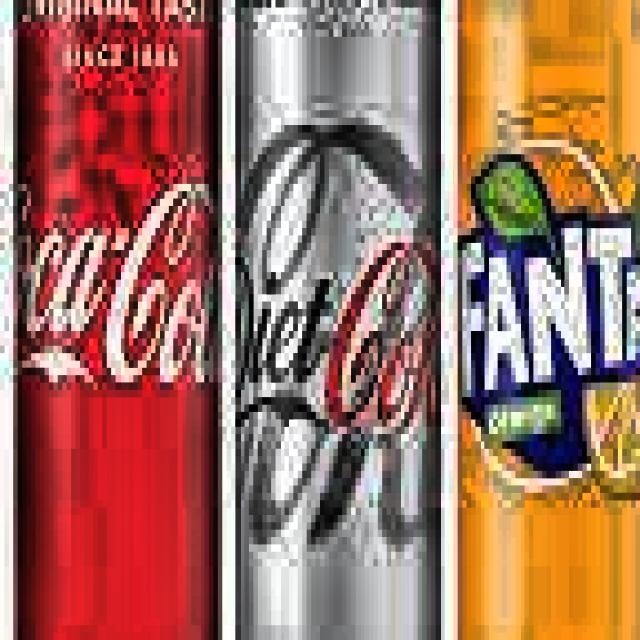metal: (9, 0, 227, 640), (231, 0, 445, 640), (449, 0, 640, 640)
